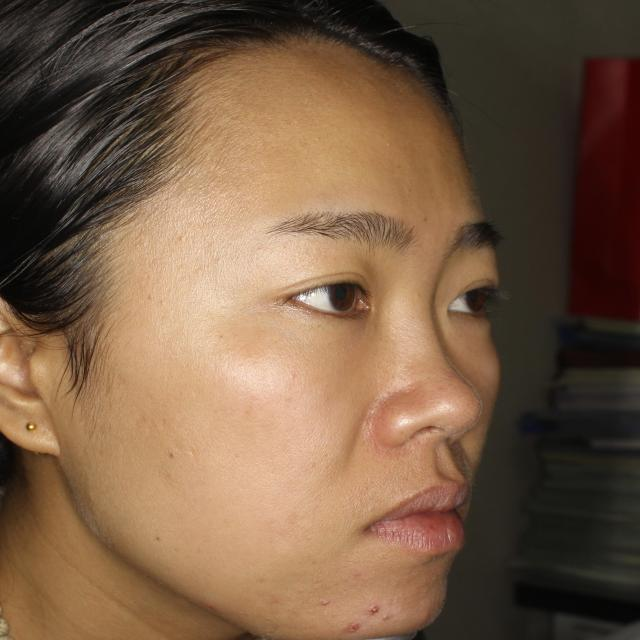comedone: (415, 604, 441, 632), (345, 612, 363, 636)
